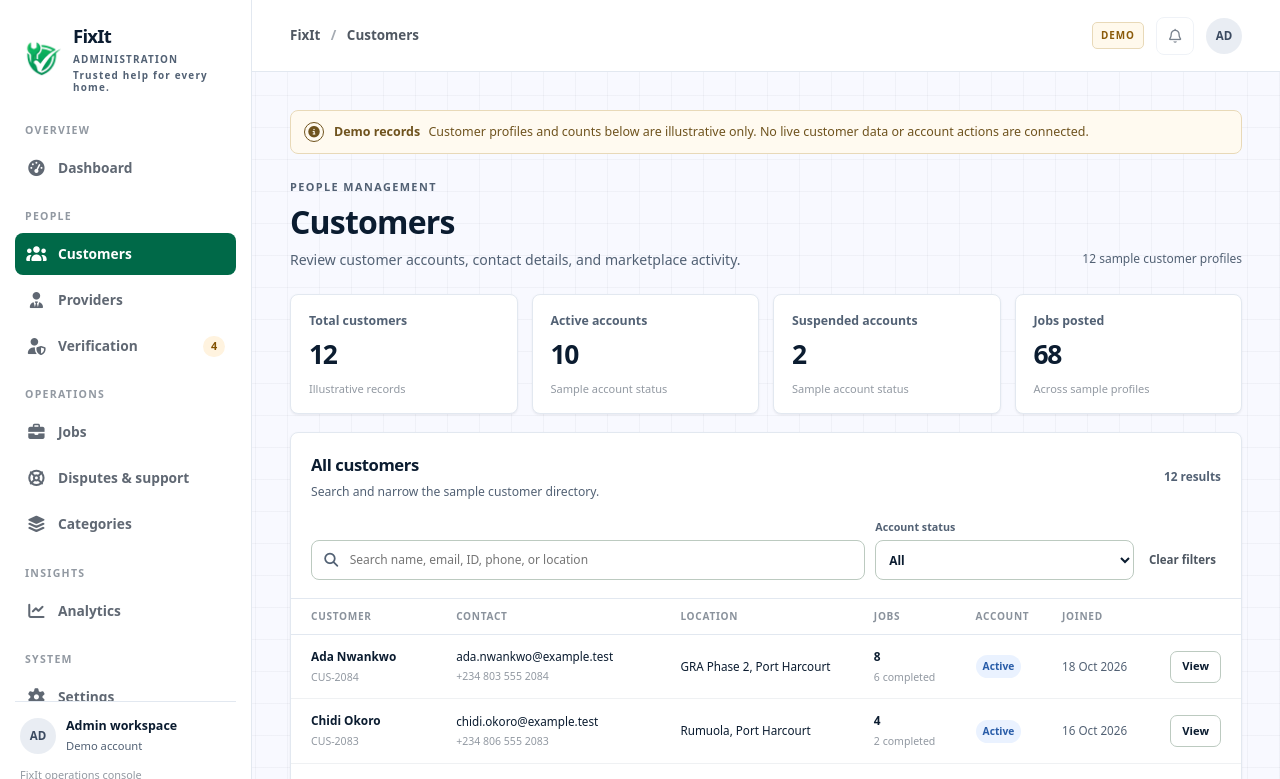
Test: FixIt admin workspace › filters customer accounts and displays an empty state
Select "Suspended" in the dropdown named "Customer account status" at coordinates (1005, 560), box left=875, top=540, right=1134, bottom=580
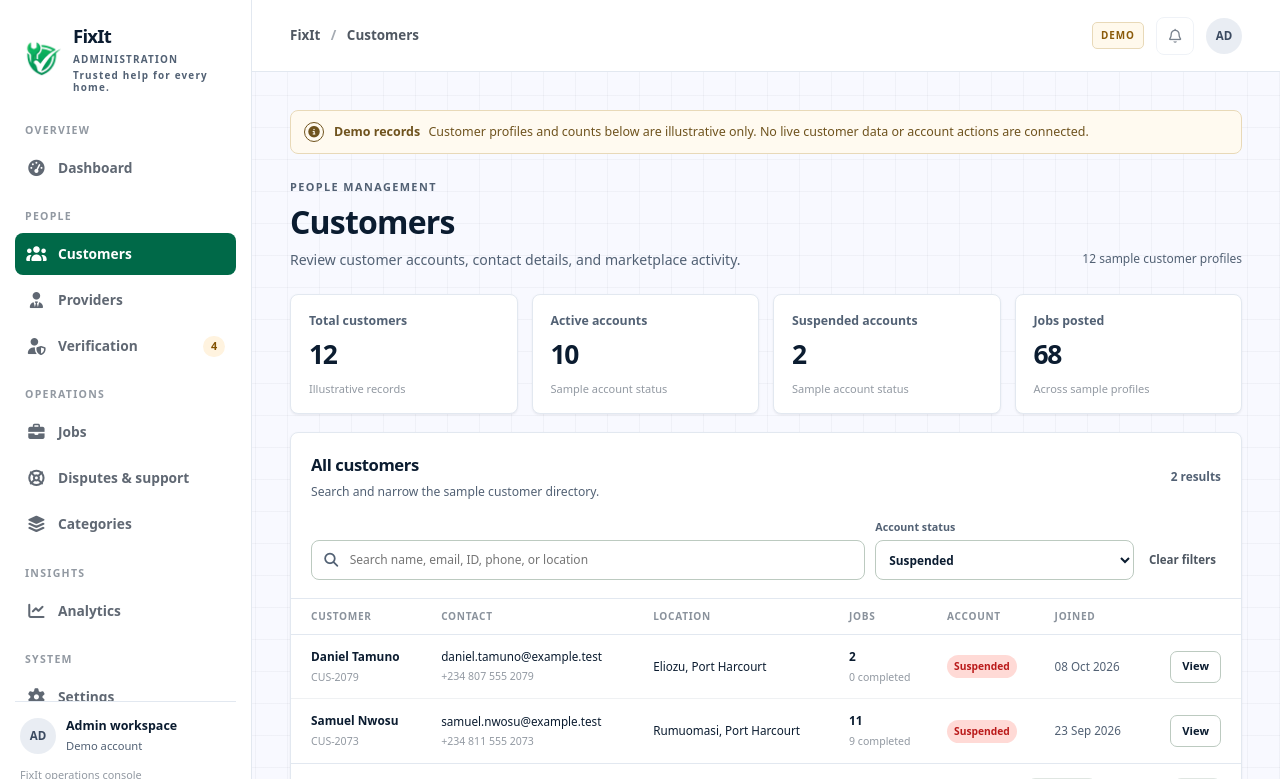
Result: the text "Daniel Tamuno" is shown at left=311, top=648, right=400, bottom=664
Type "no matching customer" into the search field named "Search customers" at coordinates (600, 560), box left=348, top=550, right=853, bottom=570
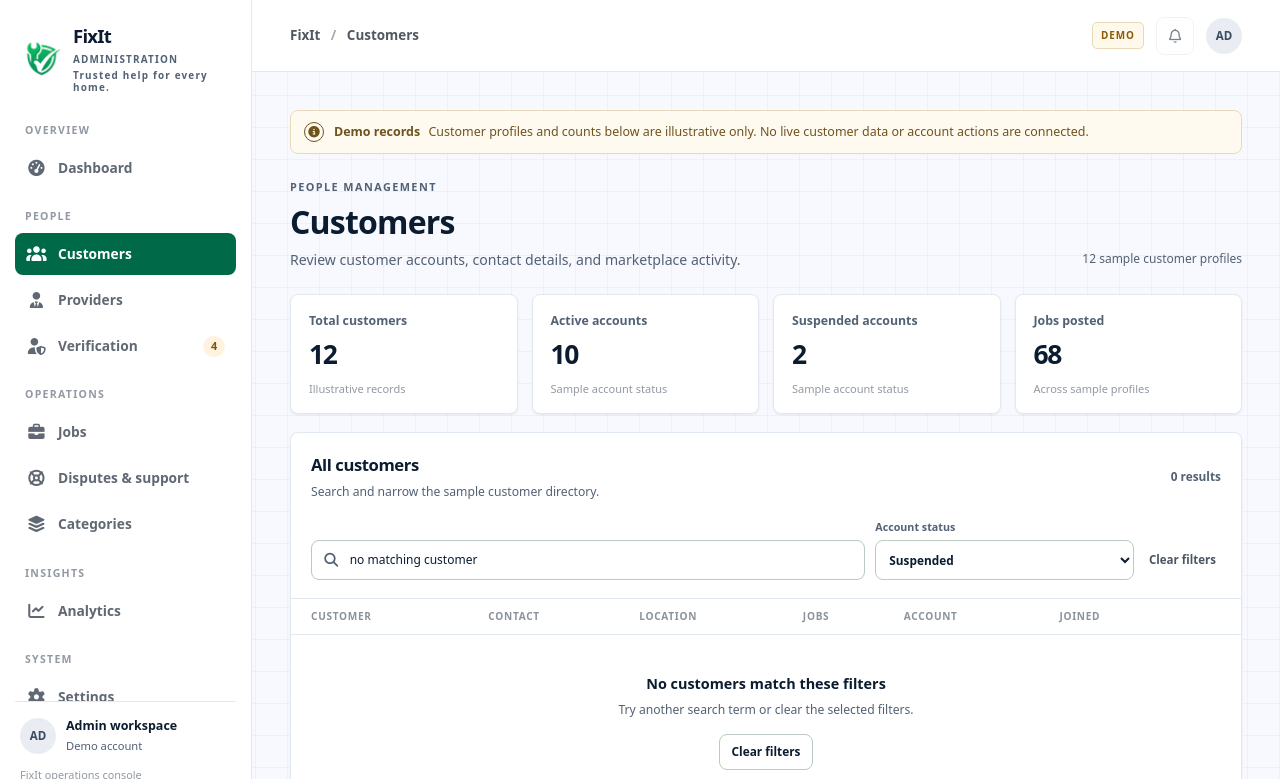
Result: the text "No customers match these filters" is shown at left=646, top=673, right=886, bottom=694
